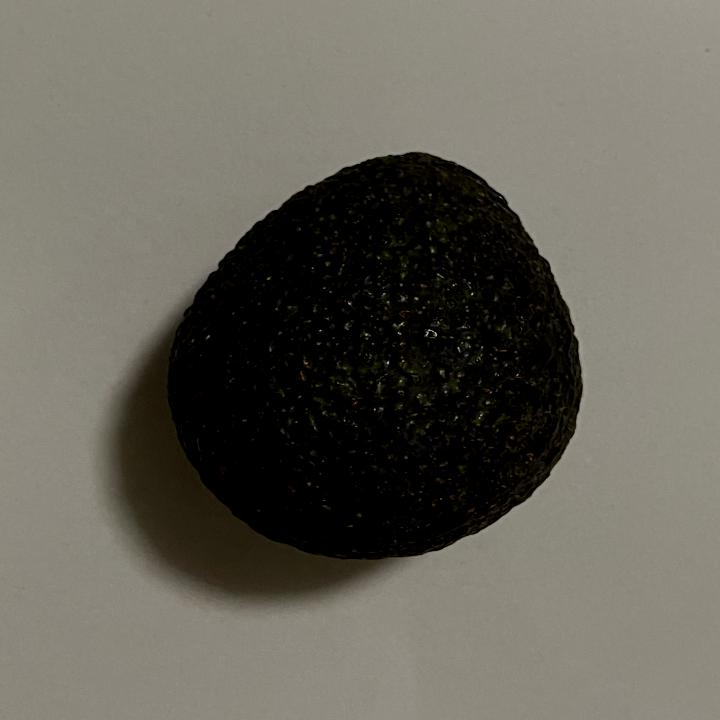Level2: (157, 139, 589, 566)
